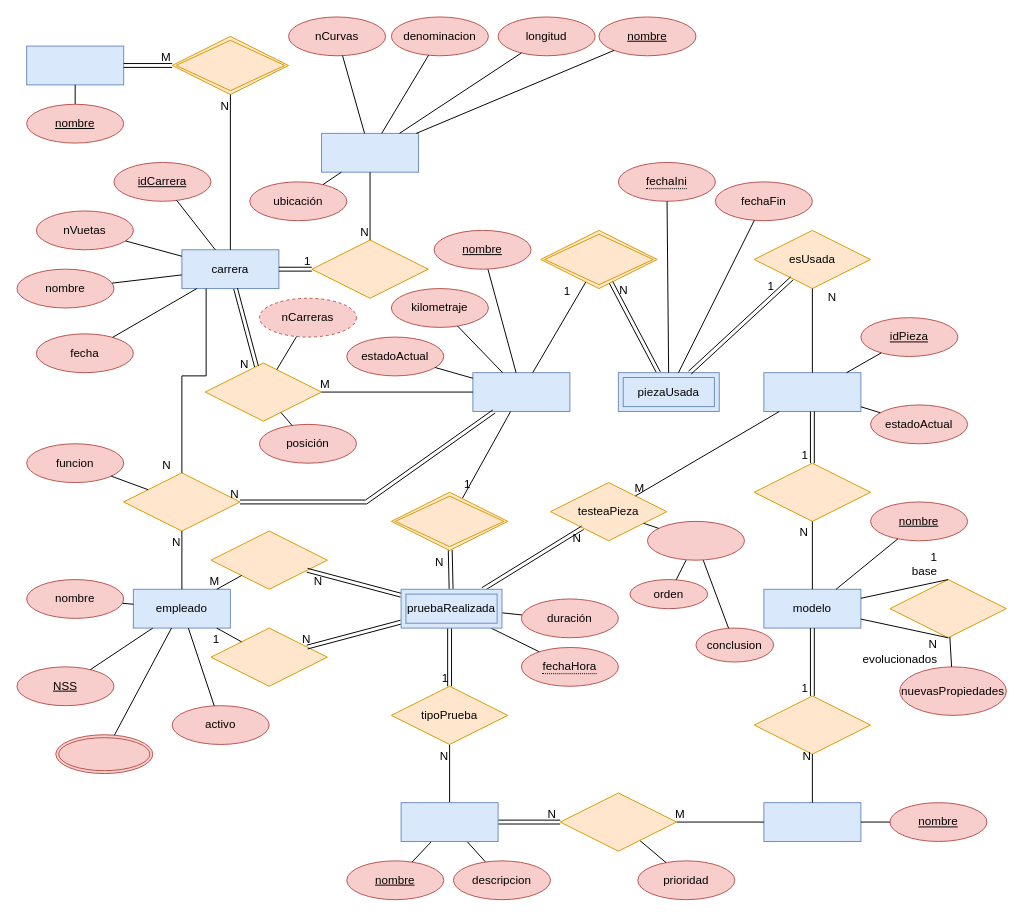
Image size: 1023x917. Some labels were removed from this diagram. The centre of each missing label's shape, as x and y in pixels:
"circuito" belongs at pixel 370 152.
"coche" belongs at pixel 521 391.
"correspondeA" belongs at pixel 812 724.
"dirigidaPor" belongs at pixel 268 656.
"es patrocinada" belongs at pixel 230 65.
"especialidad" belongs at pixel 104 754.
"evolucionaDe" belongs at pixel 947 608.
"hechaModelando" belongs at pixel 812 491.
"parteCoche" belongs at pixel 812 821.
"patrocinadores" belongs at pixel 75 65.
"pieza" belongs at pixel 812 391.
"prueba" belongs at pixel 449 821.
"pruebaParte" belongs at pixel 618 821.
"quedoDe" belongs at pixel 263 391.
"realizaPrueba" belongs at pixel 268 559.
"resultado" belongs at pixel 695 540.
"seSomete" belongs at pixel 449 520.
"situadaEn" belongs at pixel 369 268.
"trabaja" belongs at pixel 181 501.
"usa" belongs at pixel 598 259.
